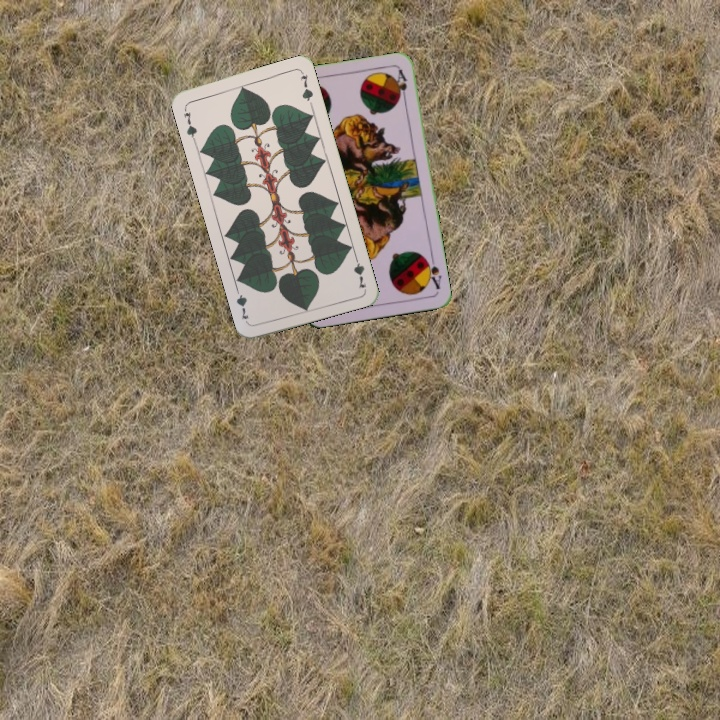G7: (349, 251, 369, 291), (180, 103, 199, 143)
SA: (421, 252, 444, 292)
